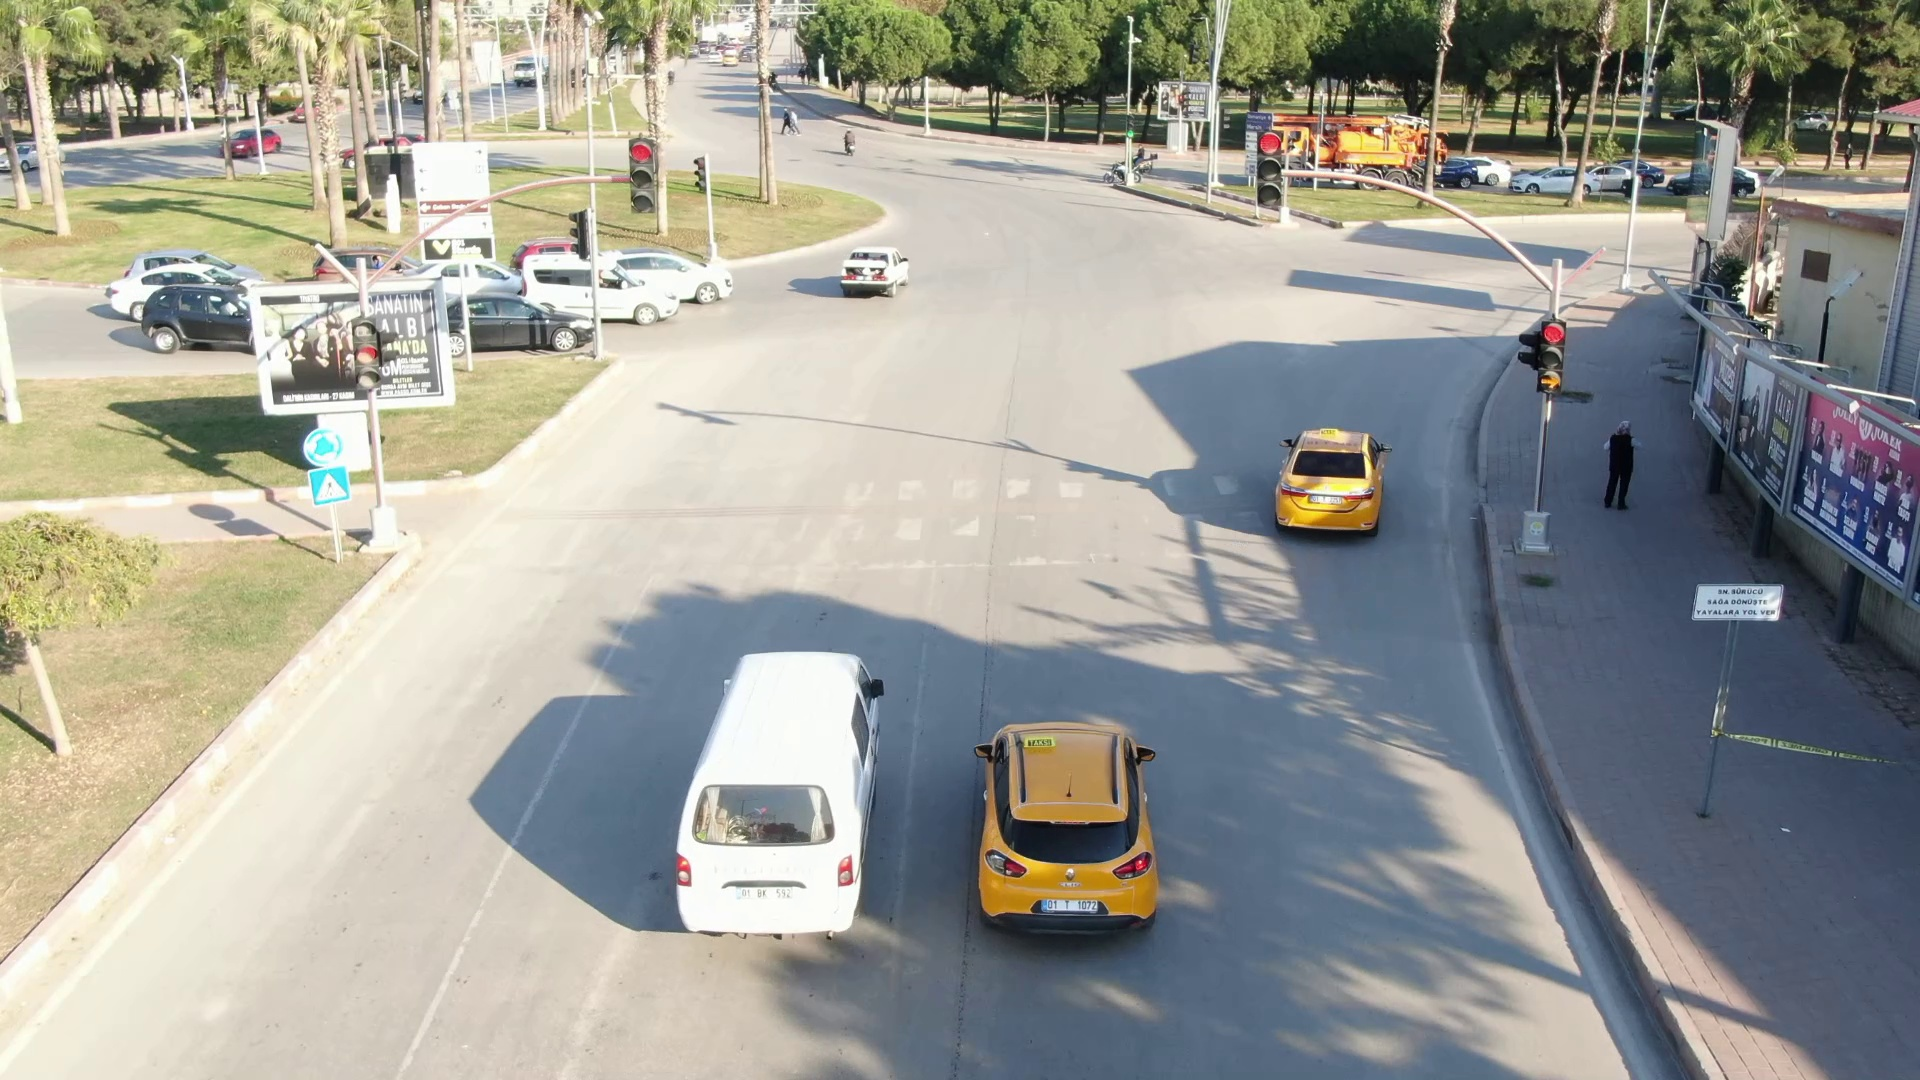car: (663, 629, 888, 947), (949, 684, 1170, 943), (1263, 406, 1410, 551), (515, 239, 682, 323), (437, 292, 602, 359), (608, 239, 735, 306), (831, 247, 917, 302)
person: (1597, 400, 1644, 523)
